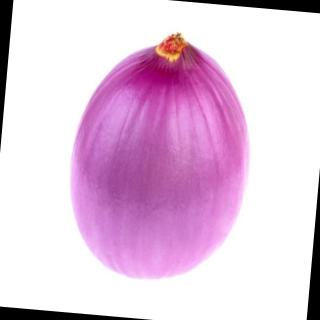Bawang Merah: (60, 22, 262, 293)
